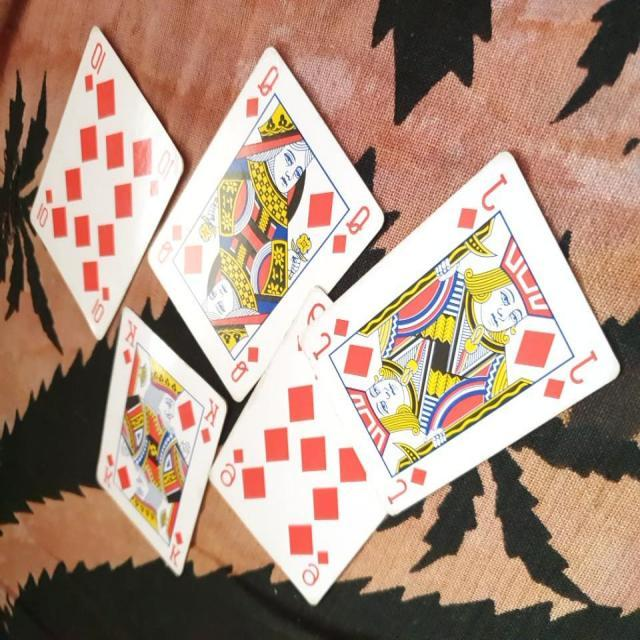10 of diamonds: (27, 25, 186, 345)
9 of diamonds: (208, 290, 388, 606)
jack of diamonds: (293, 146, 620, 518)
king of diamonds: (92, 306, 230, 580)
queen of diamonds: (145, 46, 386, 403)
